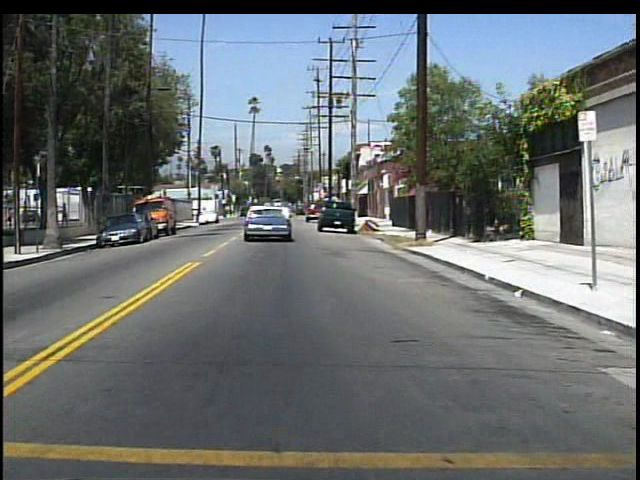person: (60, 199, 74, 226)
